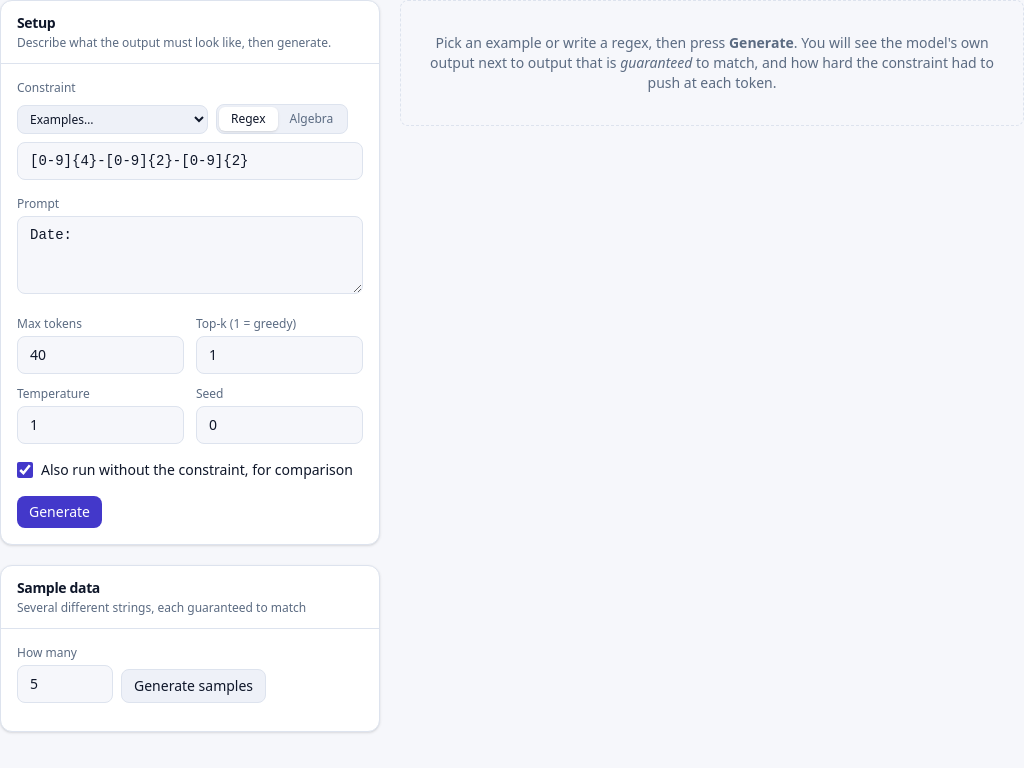
Test case: Generate page › reports an error event sent mid-stream
Click the button "Generate" at point(60, 512), box [17,496,102,528]
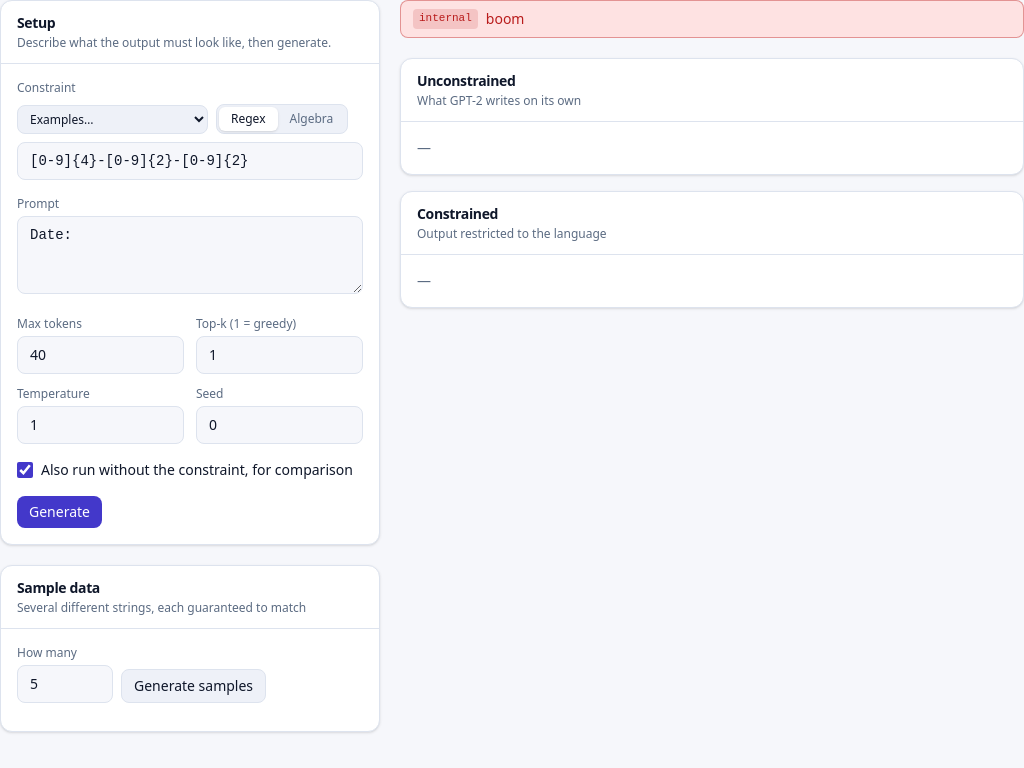
Check: the message shows "boom", box [486,9,524,28]
